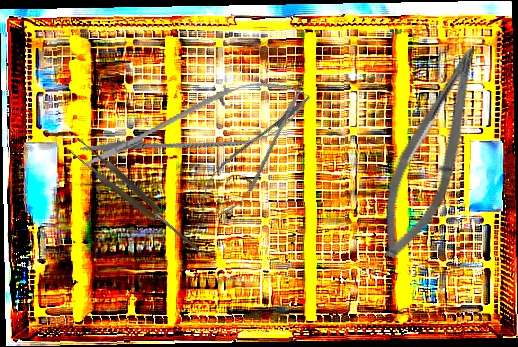Micro Scissor: (366, 36, 494, 268), (74, 67, 317, 187), (186, 79, 322, 233)
Tissue Forceps: (66, 135, 205, 260)
